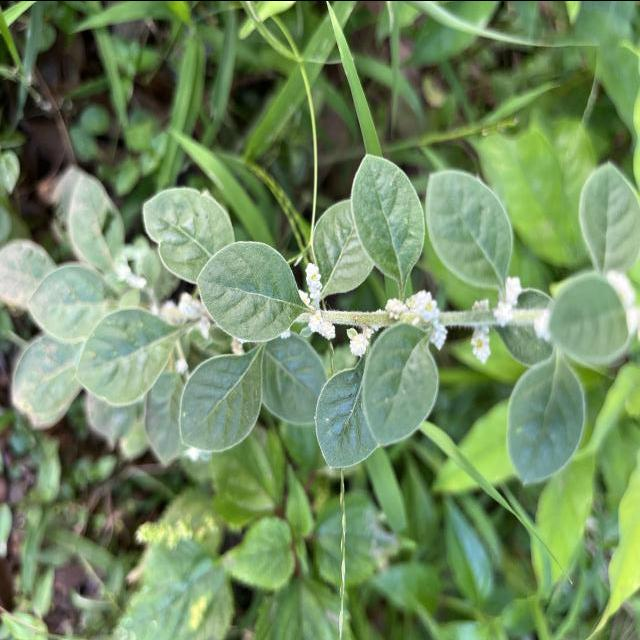Aerva lanata: (194, 238, 306, 344), (348, 148, 428, 284), (177, 351, 267, 454), (312, 358, 385, 471)
